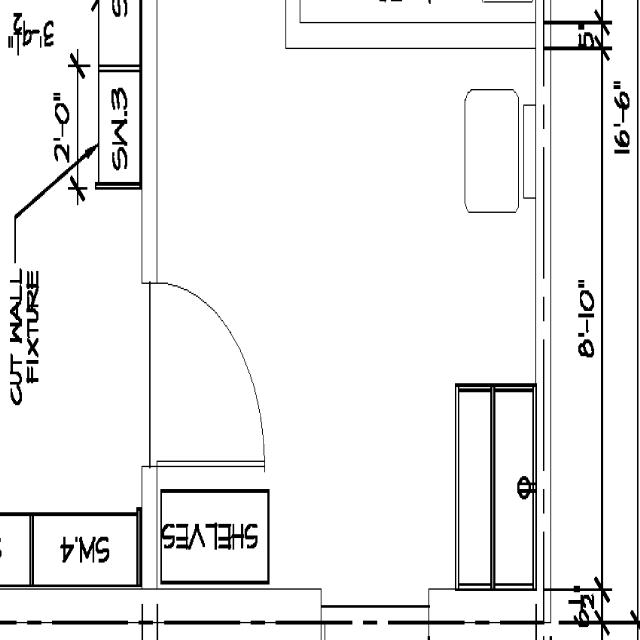Doors: (144, 276, 269, 475)
